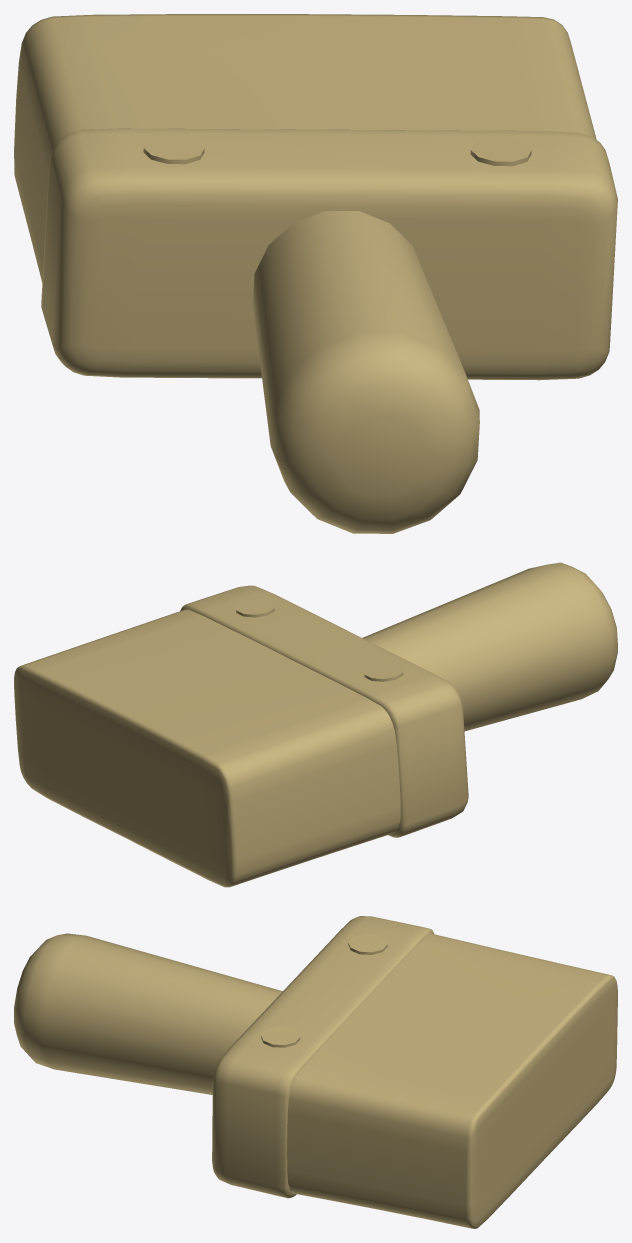
The model's file is PaintBrush-Shadow.fbx.
The picture shows the model from 3 angles, top to bottom: view 1: azimuth 30°, elevation 25°; view 2: azimuth 150°, elevation 25°; view 3: azimuth 270°, elevation 25°; orthographic projection. The views are drawn at different scales.
Parts seen in each view (by area): view 1: PaintBrush-Shadow; view 2: PaintBrush-Shadow; view 3: PaintBrush-Shadow.
Boxes of the visible parts, bbox=[...] form: PaintBrush-Shadow: bbox=[14, 14, 617, 533]; PaintBrush-Shadow: bbox=[14, 562, 617, 887]; PaintBrush-Shadow: bbox=[14, 916, 617, 1228].
Bounding box in the file's own units: 10.21 × 3.75 × 13.79.
